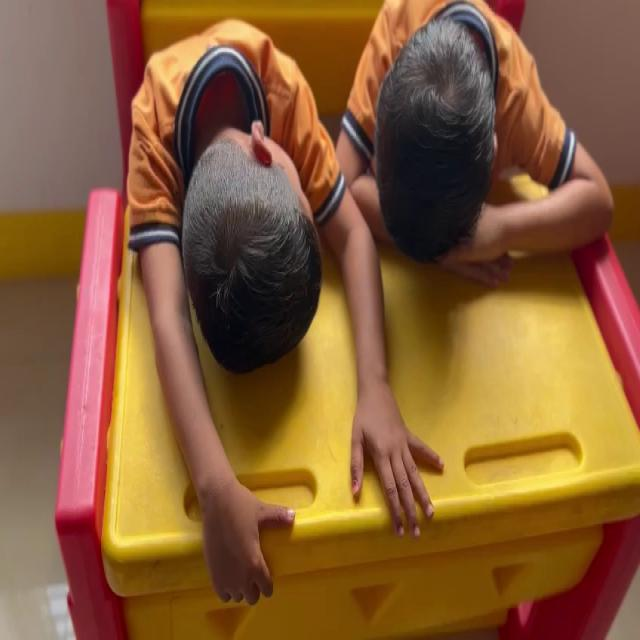child: (80, 36, 343, 614), (360, 21, 623, 298)
